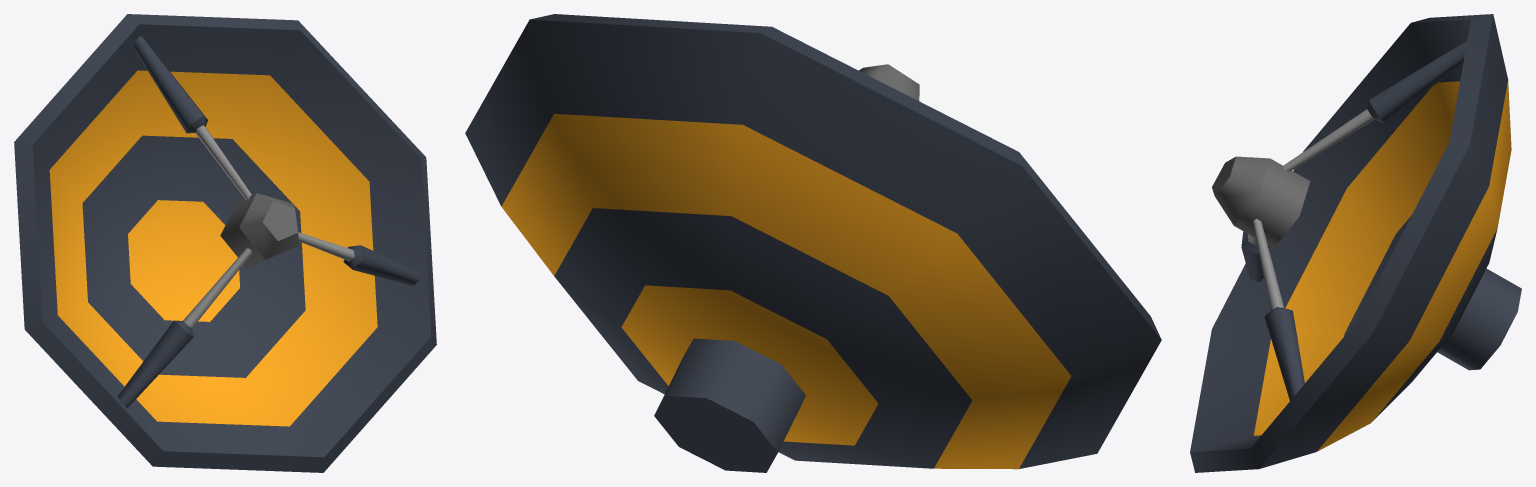
File: Antene_2_G_1.fbx
The picture shows the model from 3 angles, left to right: view 1: azimuth 30°, elevation 25°; view 2: azimuth 150°, elevation 25°; view 3: azimuth 270°, elevation 25°; orthographic projection. The views are drawn at different scales.
Visible parts, largest first — view 1: Antene_2_G_1; view 2: Antene_2_G_1; view 3: Antene_2_G_1.
Boxes of the visible parts, box(x1,y1,x2,y2) form: Antene_2_G_1: box(14, 14, 436, 472); Antene_2_G_1: box(465, 14, 1161, 472); Antene_2_G_1: box(1190, 14, 1521, 472).
Bounding box in the file's own units: 142 × 120 × 84.78.
